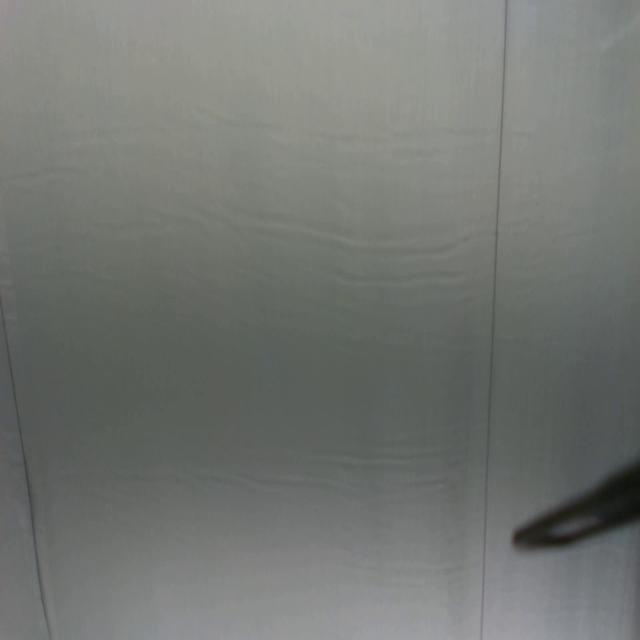crease: (480, 0, 510, 640), (0, 295, 53, 640)
